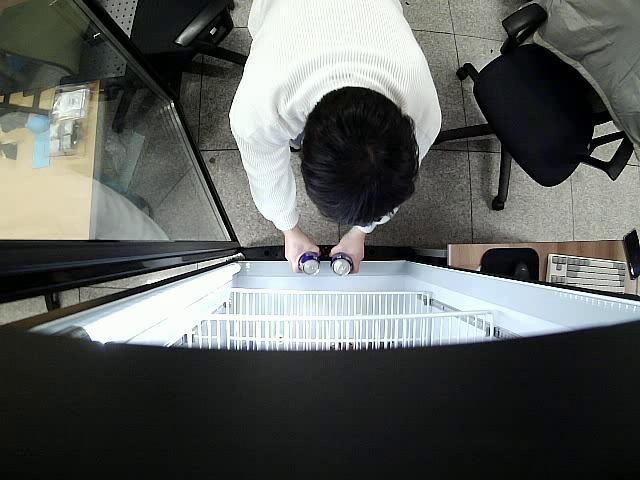14_welchsGrape: (298, 252, 324, 278), (328, 254, 355, 275)
